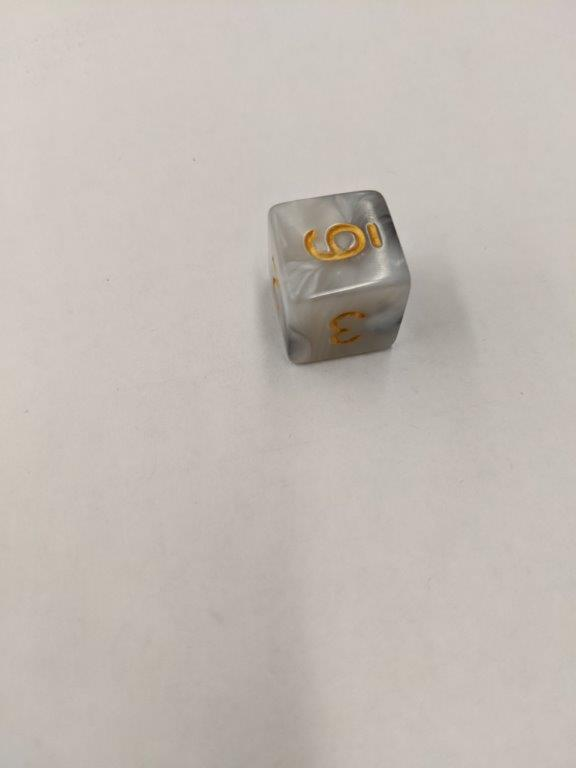d6-6: (266, 186, 414, 365)
